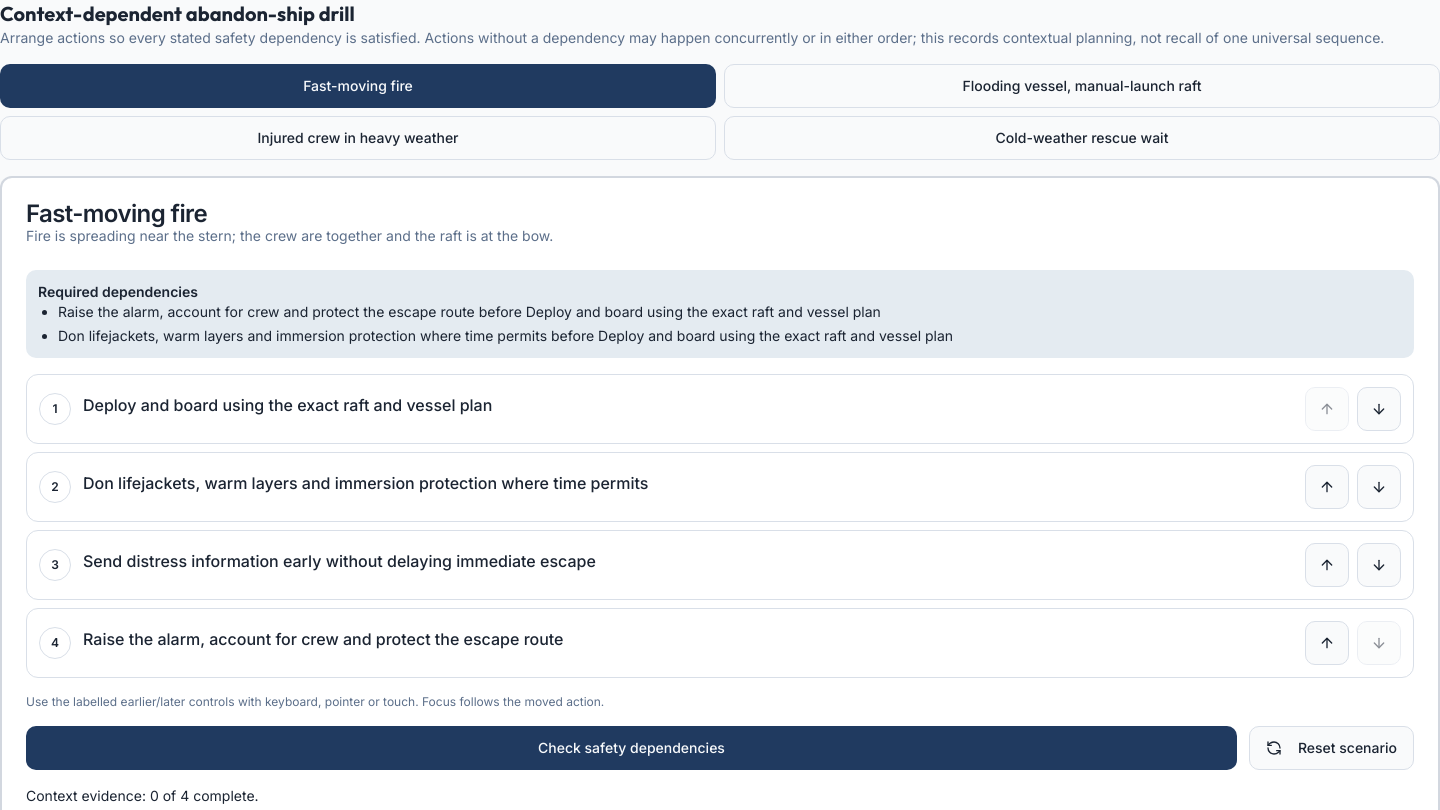
Test case: AbandonShipSortingGame › switches scenario state semantically and reset restores an invalid order
Click the tab "Flooding vessel, manual-launch raft": click(1082, 86) [724,64,1439,108]
(page scrolled)
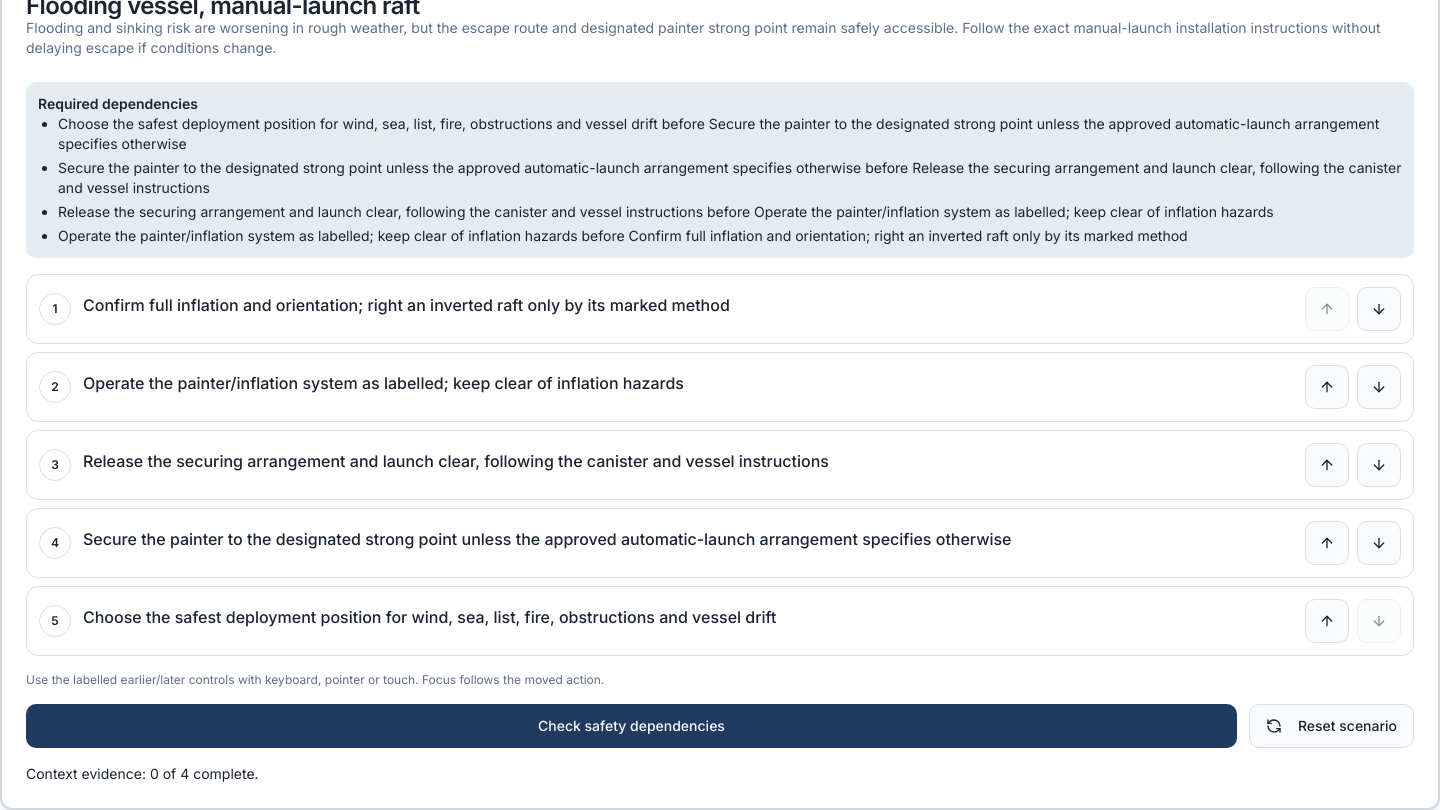
Expected: the text "designated painter strong point remain safely accessible" is shown, [26,19,1381,56]
Click the button "Reset scenario": click(1331, 726) [1249,704,1414,748]
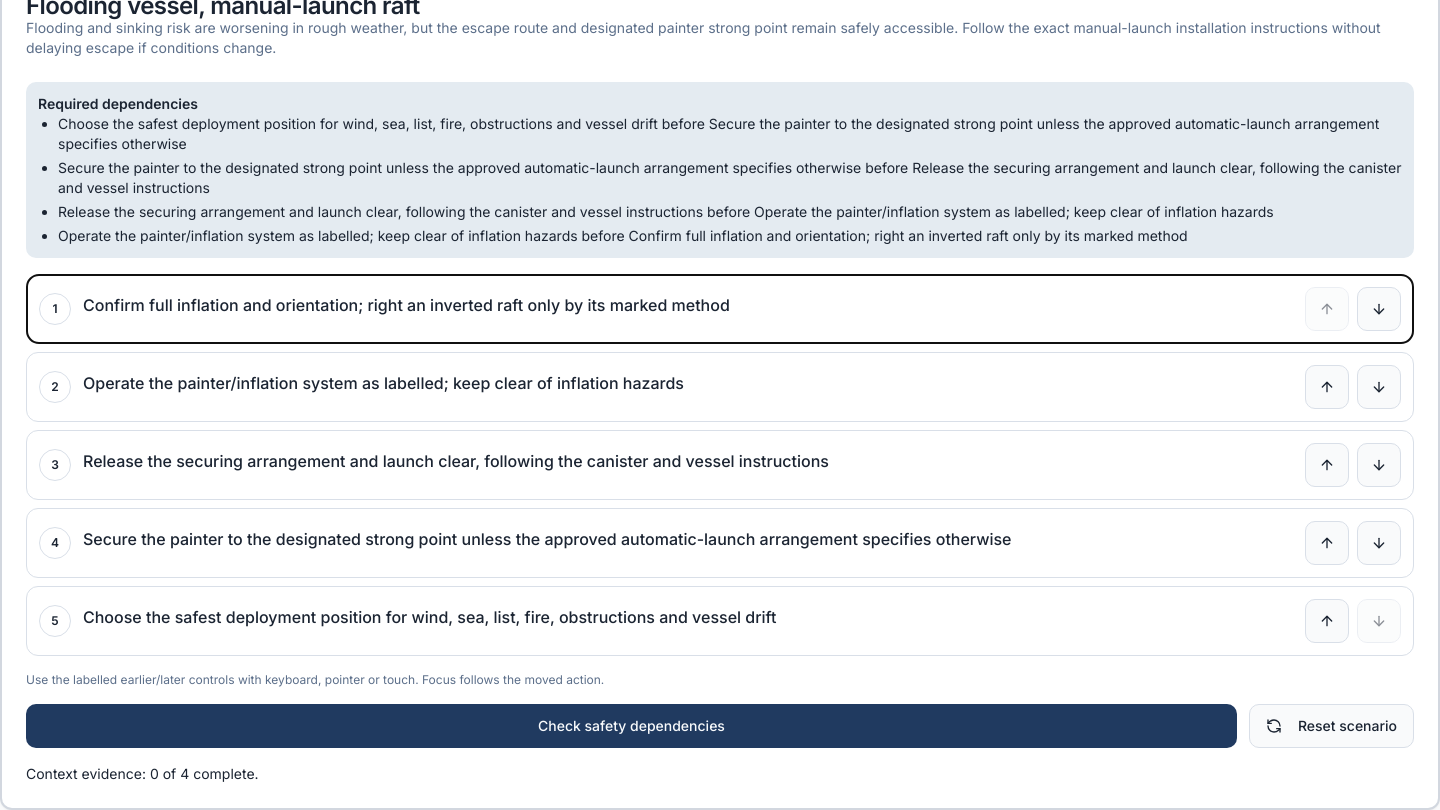
Click the button "Check safety dependencies": click(631, 726) [26,704,1237,748]
(page scrolled)
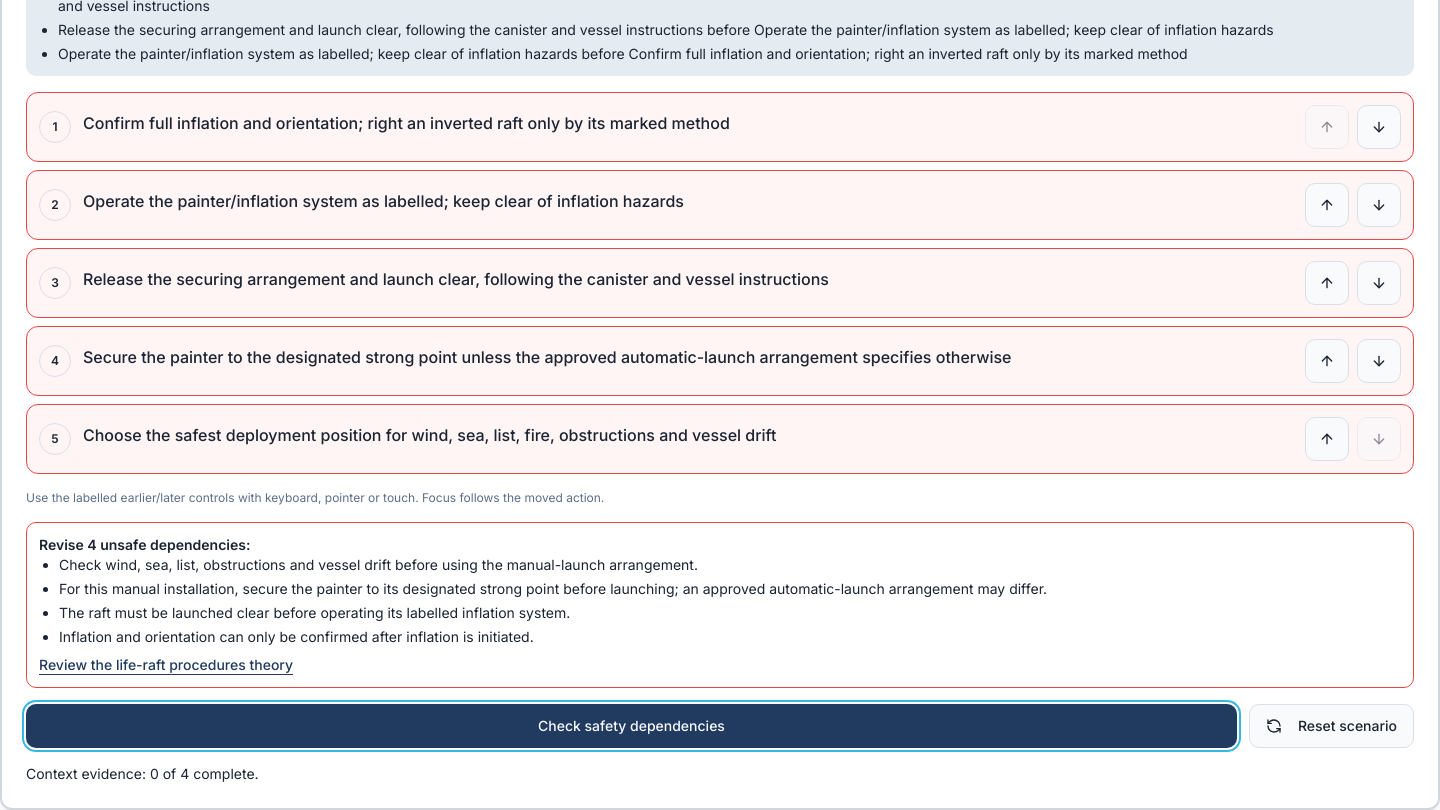
Expected: the message shows "Revise 4 unsafe dependencies", [26,522,1414,688]
